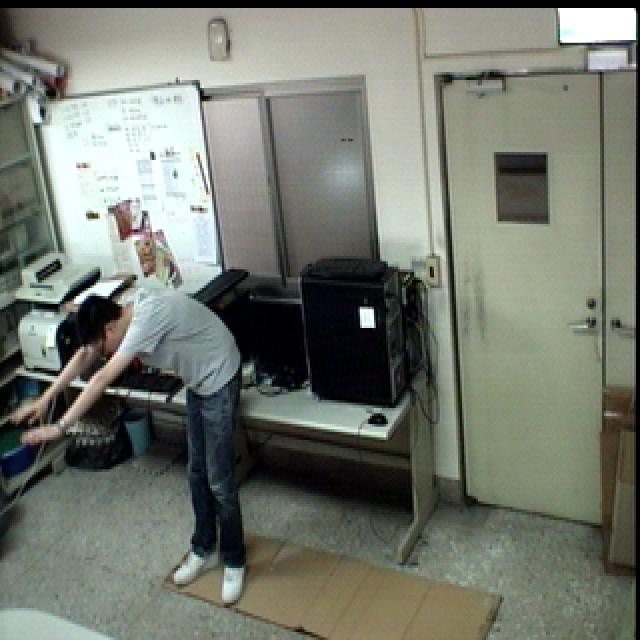bend: (13, 291, 262, 611)
